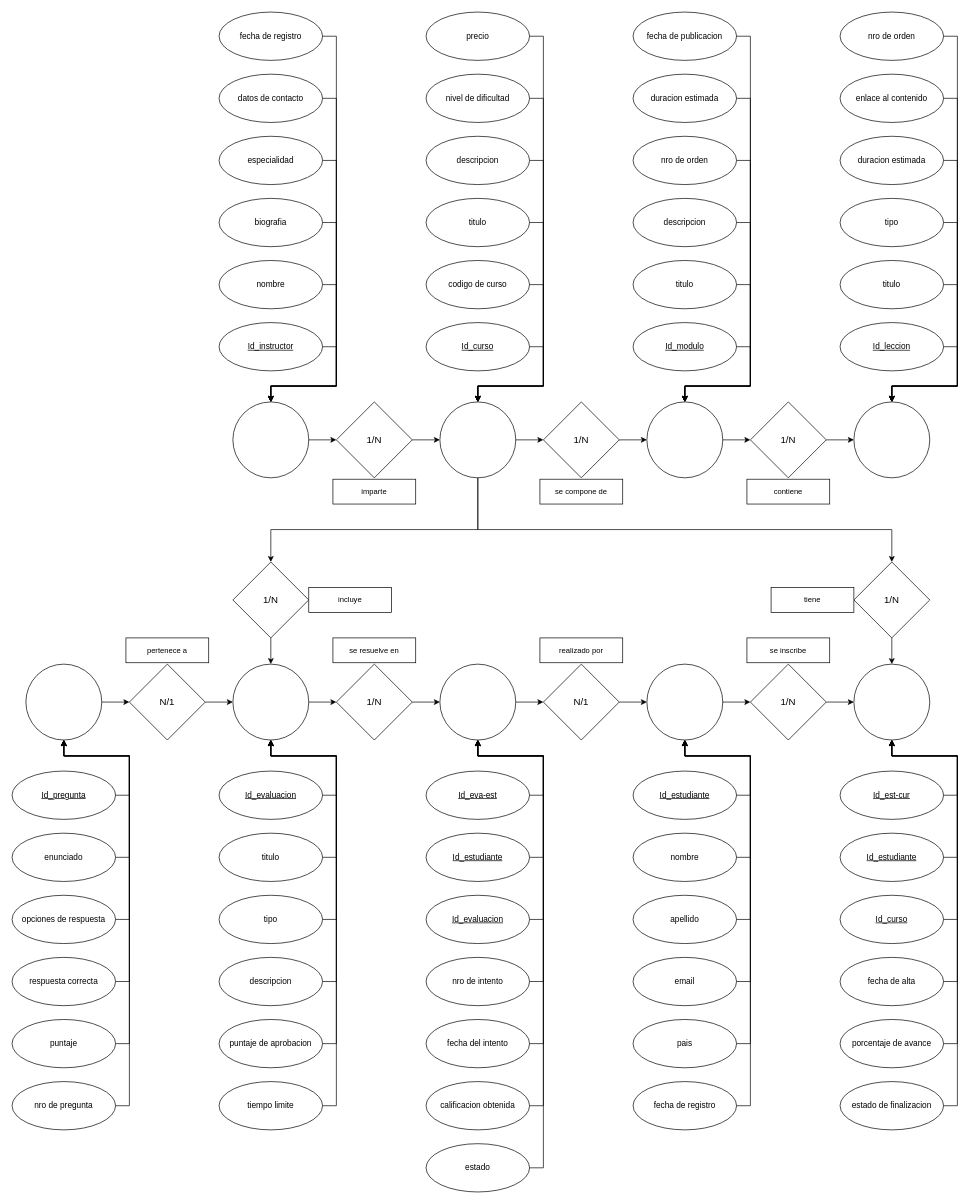
Image size: 975x1204. Some labels were removed from this diagram. Each missing label, with the centre of its shape:
"CURSO" belongs at point (477, 439).
"EST-CUR" belongs at point (891, 701).
"ESTUDIANTE" belongs at point (684, 701).
"EVA-EST" belongs at point (477, 701).
"EVALUACION" belongs at point (270, 701).
"INSTRUCTOR" belongs at point (270, 439).
"LECCION" belongs at point (891, 439).
"MODULO" belongs at point (684, 439).
"PREGUNTA" belongs at point (63, 701).
